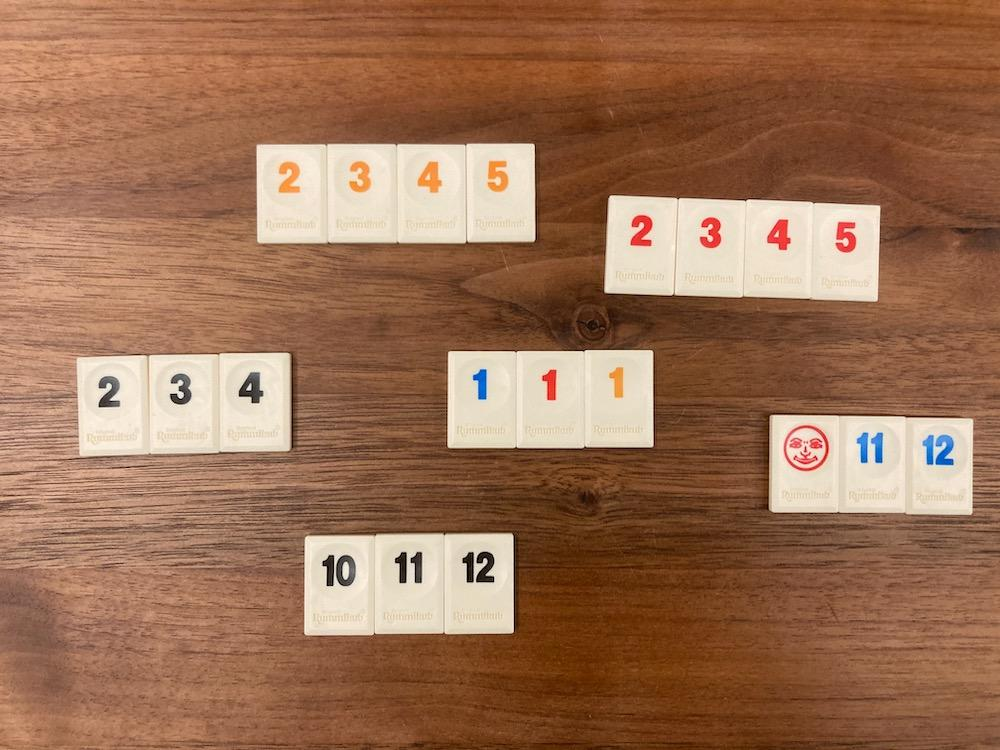black_10: (305, 536, 375, 634)
black_11: (375, 533, 445, 635)
black_12: (443, 533, 514, 635)
black_2: (76, 355, 148, 456)
black_3: (148, 355, 219, 454)
black_4: (219, 354, 291, 453)
blue_1: (447, 352, 516, 447)
blue_11: (840, 416, 906, 511)
blue_12: (906, 418, 973, 515)
joker: (770, 414, 840, 512)
orange_1: (584, 350, 654, 447)
orange_2: (256, 145, 328, 244)
orange_3: (328, 145, 396, 241)
orange_4: (398, 145, 467, 244)
orange_5: (467, 143, 535, 241)
red_1: (516, 352, 584, 448)
red_2: (604, 195, 678, 295)
red_3: (674, 199, 746, 297)
red_4: (744, 199, 812, 298)
red_5: (811, 203, 881, 300)
